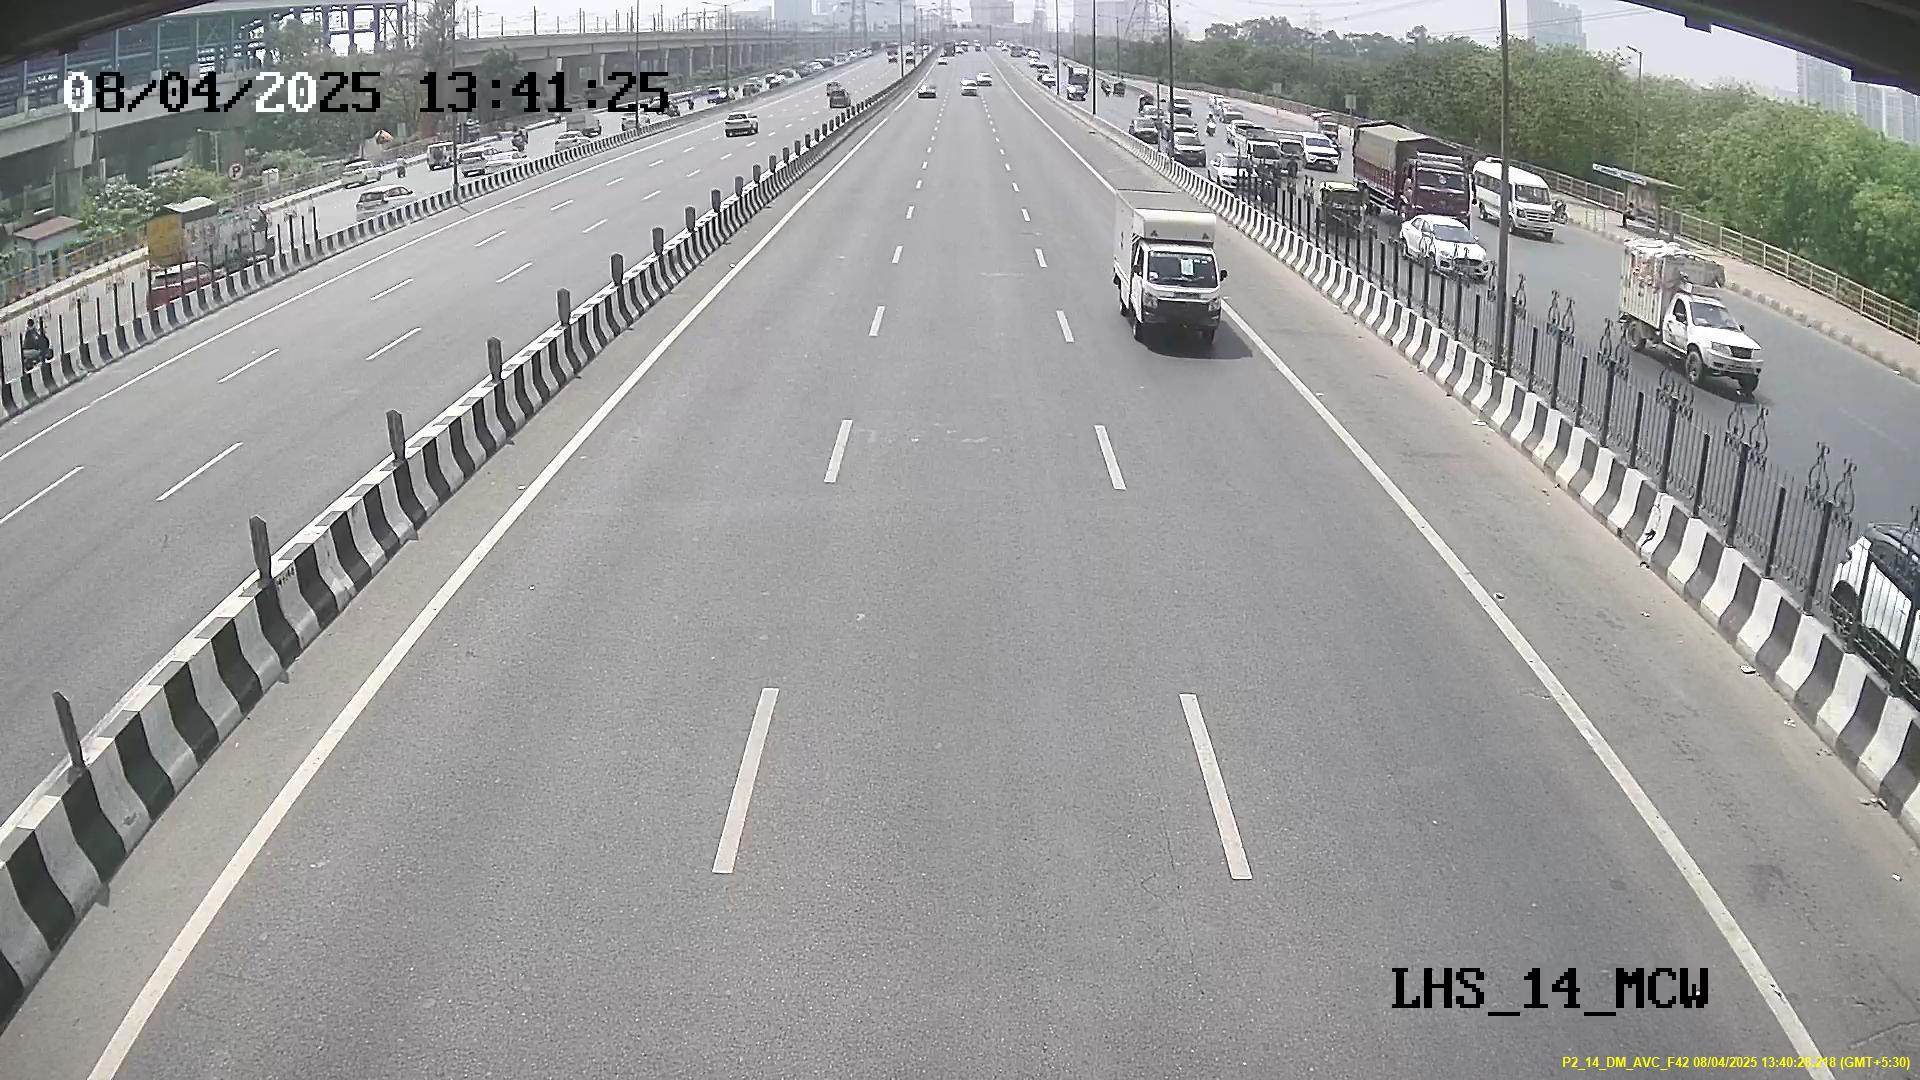car: (1121, 237, 1226, 343)
